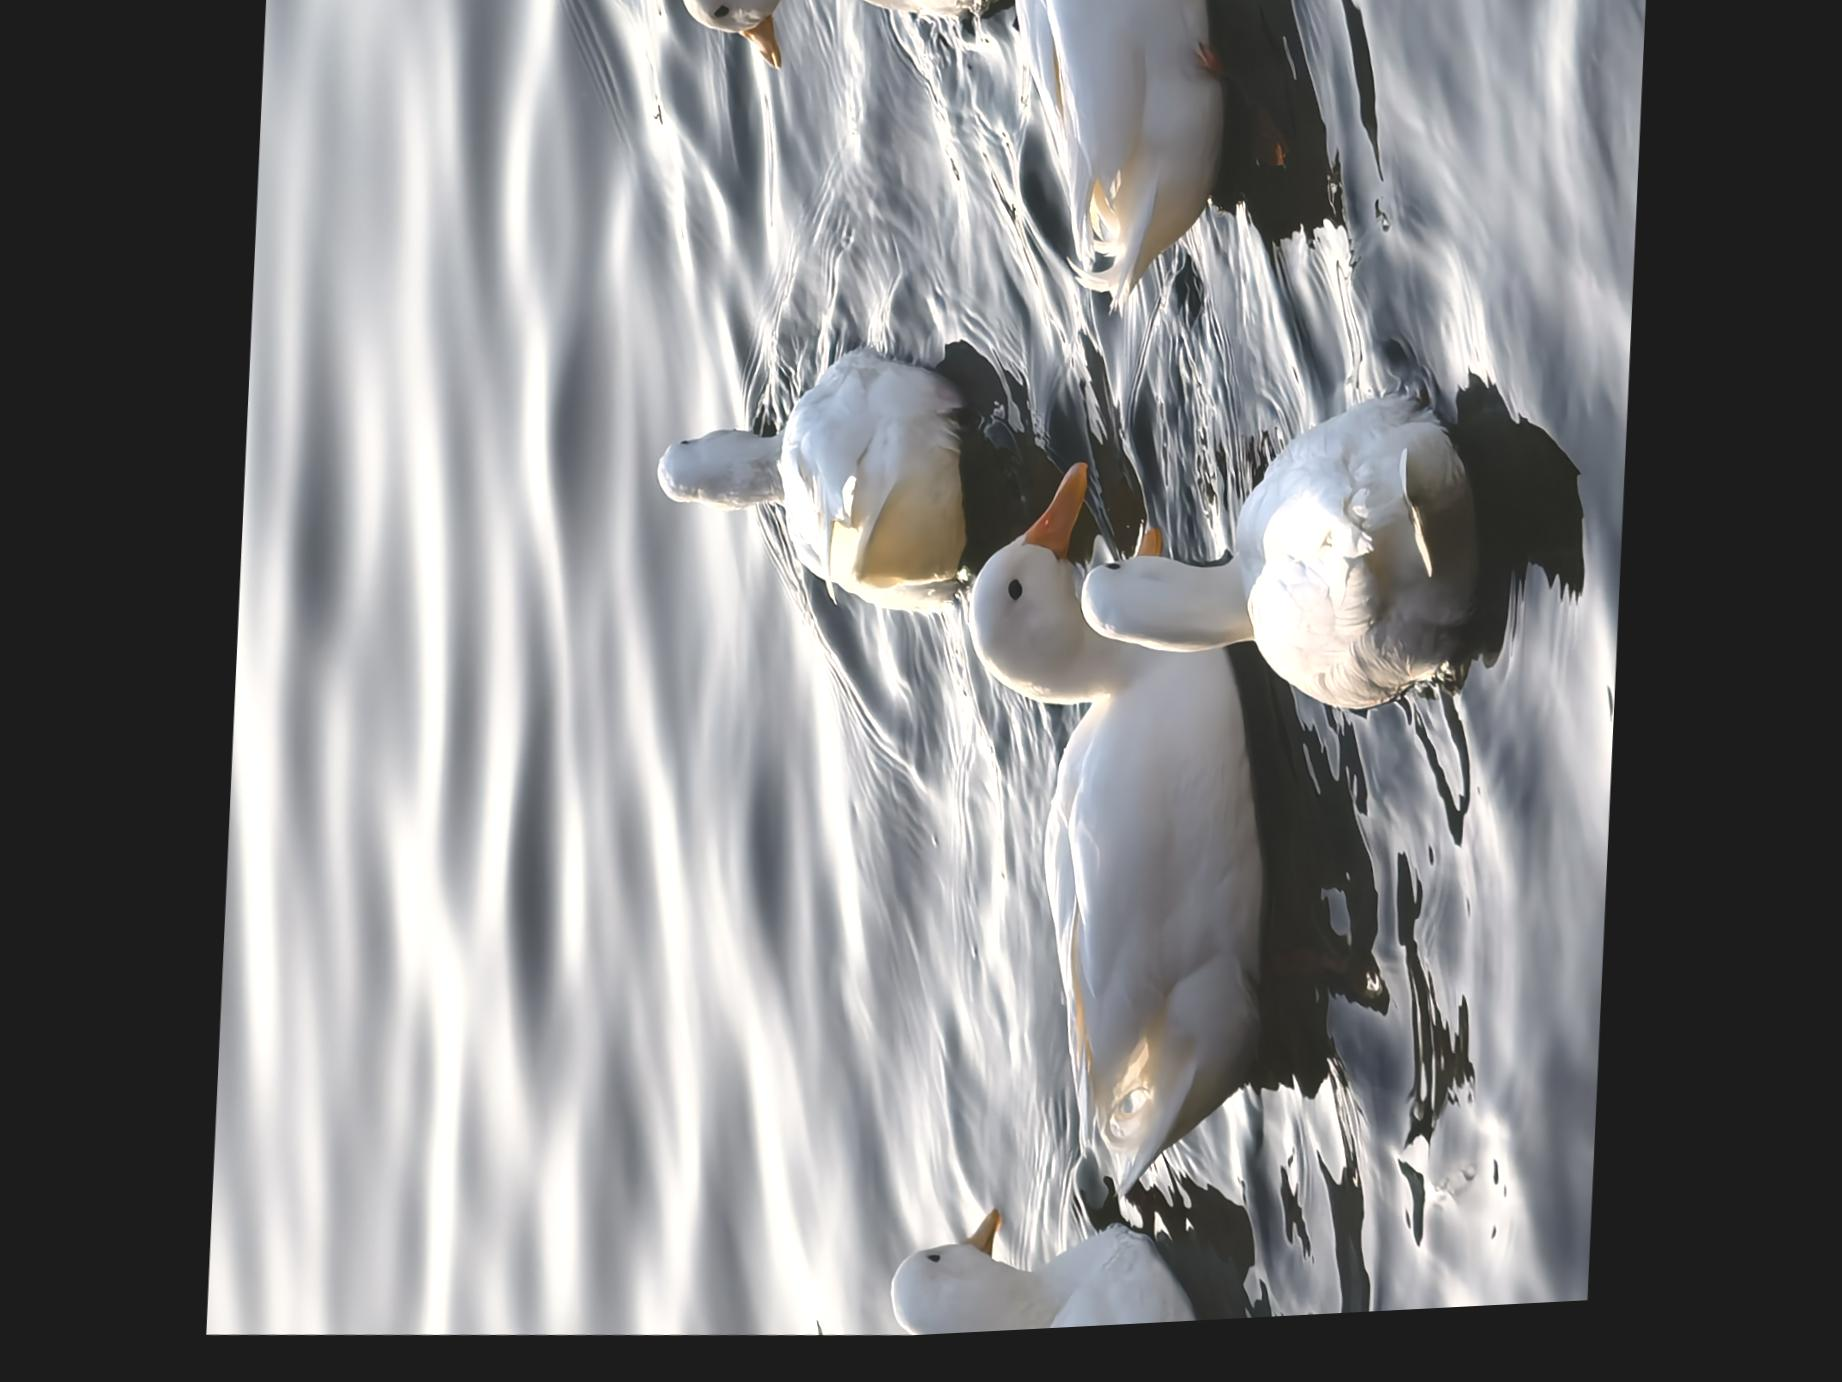duck: (928, 467, 1276, 1212), (1073, 379, 1480, 742), (846, 0, 1232, 337), (637, 330, 966, 648), (884, 1198, 1276, 1346), (674, 0, 1028, 90)
